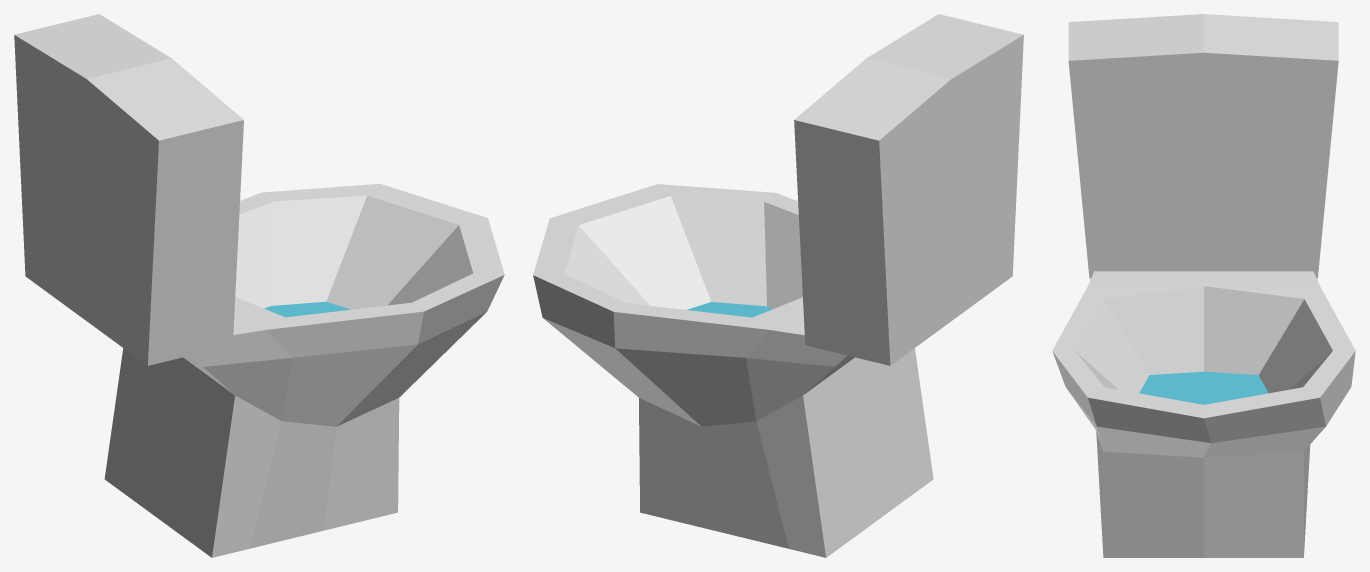
3 views of the same model, side by side, from view 1: azimuth 30°, elevation 25°; view 2: azimuth 150°, elevation 25°; view 3: azimuth 270°, elevation 25° (orthographic). The views are drawn at different scales.
Visible parts, largest first — view 1: Cube; view 2: Cube; view 3: Cube.
Boxes of the visible parts, left/top/right/bottom form: Cube: left=14, top=14, right=504, bottom=557; Cube: left=533, top=14, right=1023, bottom=557; Cube: left=1052, top=14, right=1355, bottom=557.
Size of the model in its own units: 0.772 by 0.8397 by 0.5413.
1 material, 1 textured.
